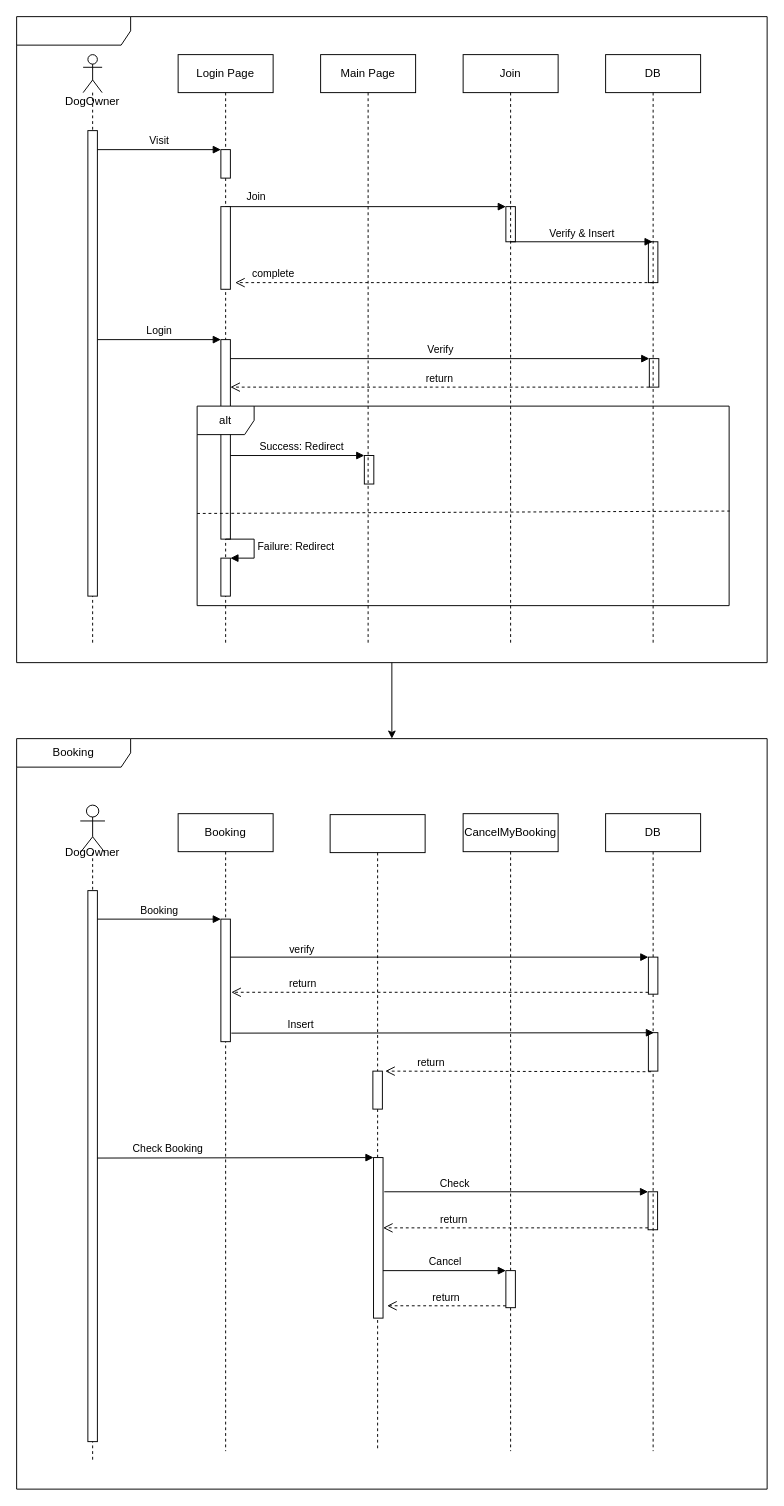
Image size: 784x1506. Some labels were removed from this diagram. The shapes that lost their labels are listed below. From the top down, each one's centre as x and y in pixels, then its label:
At (391,339): "Login and Join".
At (377,1132): "CheckMyBooking".
